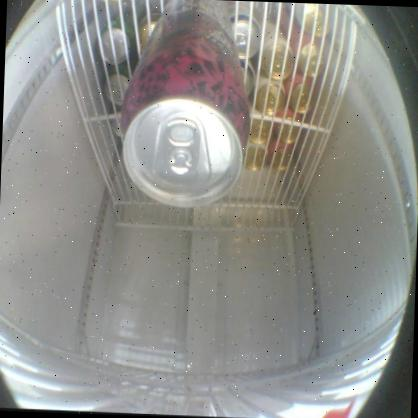can: (114, 6, 250, 210)
